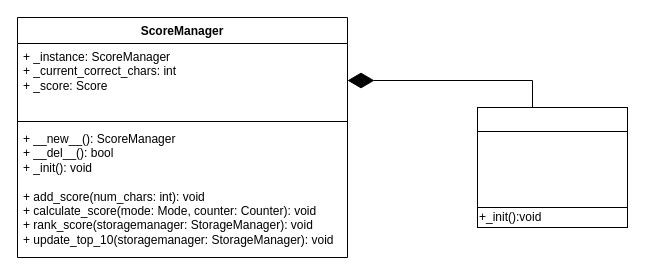
Some shapes in this 645 by 278 pixel diagram are drawn without their labels. The shapes that lost their labels are listed below. From the top down, each one's box as (x1, y1, x2, y2) in pixels, then its label:
(476, 106, 628, 132): Score
(476, 130, 628, 208): + value: int + player_name: str + ranking: int + time: float + mode: Mode
